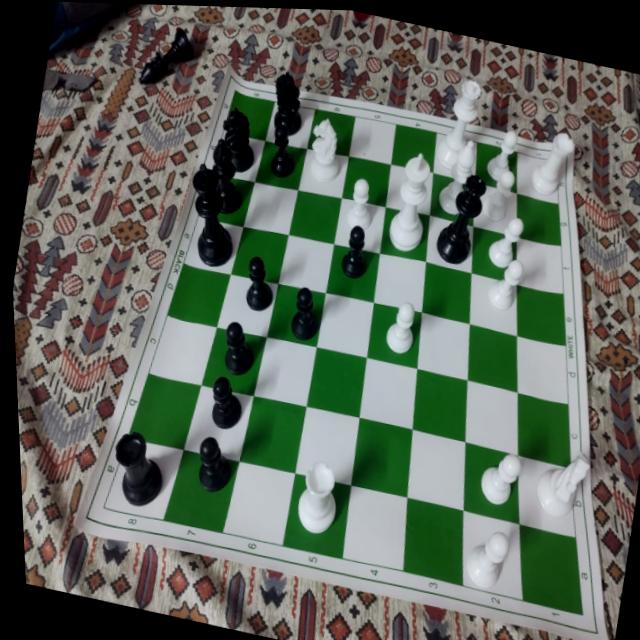board: (75, 70, 605, 640)
square: (104, 438, 184, 521), (164, 450, 240, 534), (223, 462, 295, 546), (283, 473, 351, 559), (128, 373, 202, 450), (520, 525, 583, 615), (342, 486, 407, 571), (403, 498, 464, 586), (463, 512, 523, 601), (184, 386, 254, 462), (240, 397, 307, 474), (295, 407, 360, 486), (351, 418, 412, 498), (149, 316, 217, 386), (407, 430, 465, 511), (518, 456, 576, 537), (463, 443, 520, 525), (201, 328, 267, 397), (254, 338, 317, 407), (307, 348, 367, 418), (412, 369, 468, 443), (360, 358, 417, 430), (167, 264, 231, 328), (518, 393, 571, 469), (465, 381, 518, 456), (217, 275, 278, 338), (267, 284, 326, 347), (317, 293, 374, 358), (367, 303, 422, 369), (184, 216, 244, 275), (417, 313, 469, 381), (517, 337, 569, 405), (231, 227, 289, 285), (468, 325, 517, 392), (278, 236, 334, 294), (422, 262, 472, 325), (326, 245, 380, 303), (374, 254, 426, 313), (199, 173, 255, 227), (470, 273, 517, 337), (517, 286, 566, 346), (211, 130, 265, 183), (244, 183, 298, 236), (289, 191, 342, 245), (334, 198, 386, 253), (380, 208, 430, 262), (426, 216, 473, 273), (517, 238, 564, 294), (472, 227, 517, 285), (224, 91, 275, 142), (255, 141, 307, 191), (298, 149, 349, 199), (385, 165, 434, 216), (342, 157, 391, 208), (430, 173, 475, 227), (473, 183, 517, 238), (516, 194, 561, 247), (266, 102, 315, 149), (307, 109, 356, 156), (349, 117, 396, 165), (433, 133, 478, 183), (475, 142, 518, 194), (391, 125, 437, 173), (517, 153, 559, 205)
